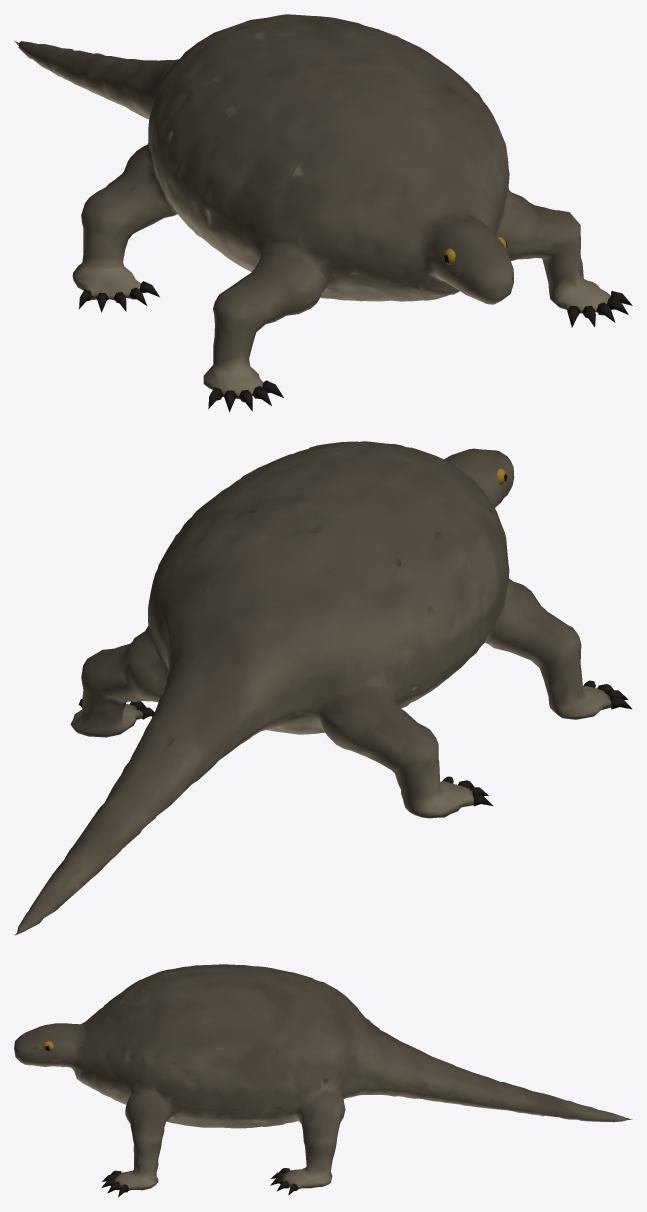
Rendered from Casea.fbx.
The picture shows the model from 3 angles, top to bottom: view 1: azimuth 30°, elevation 25°; view 2: azimuth 150°, elevation 25°; view 3: azimuth 270°, elevation 25°; orthographic projection. The views are drawn at different scales.
Visible parts, largest first — view 1: Casea; view 2: Casea; view 3: Casea.
Part boxes in pixels (x1=…): Casea: x1=14, y1=14, x2=632, y2=412; Casea: x1=14, y1=441, x2=632, y2=935; Casea: x1=14, y1=964, x2=632, y2=1197.
Size of the model in its own units: 0.7551 by 0.4154 by 1.5.
